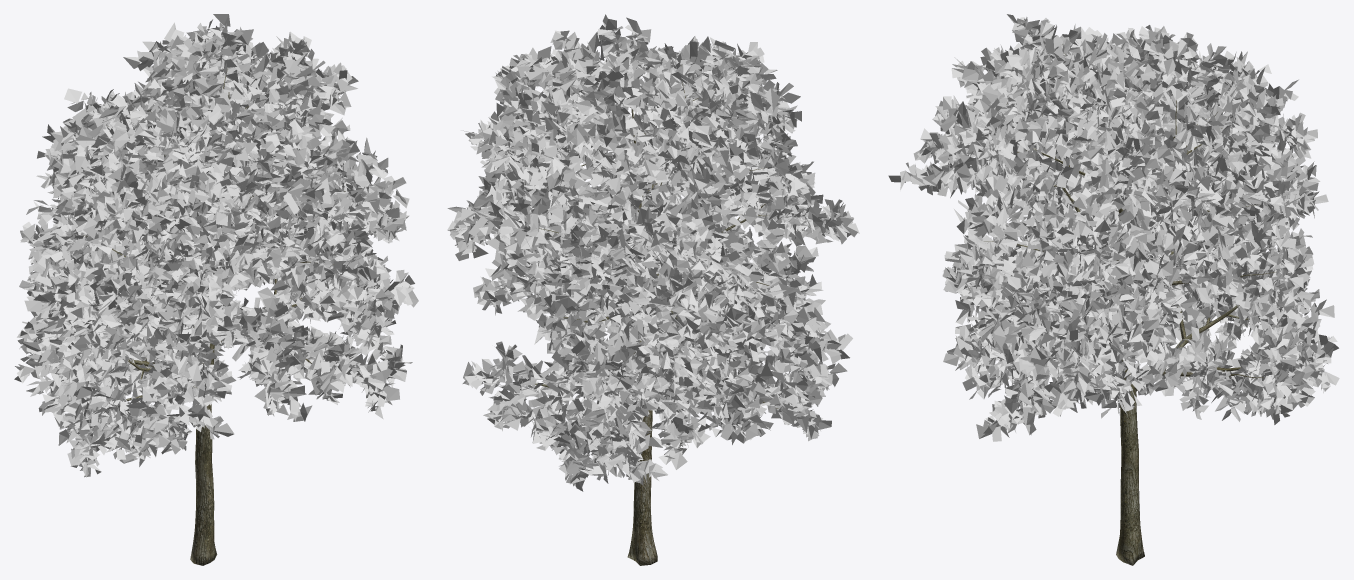
File: tree.glb
The picture shows the model from 3 angles, left to right: view 1: azimuth 30°, elevation 25°; view 2: azimuth 150°, elevation 25°; view 3: azimuth 270°, elevation 25°; orthographic projection. The views are drawn at different scales.
Visible parts, largest first — view 1: 45K; view 2: 45K; view 3: 45K.
Part boxes in pixels (x1=…): 45K: x1=14, y1=14, x2=418, y2=565; 45K: x1=447, y1=14, x2=859, y2=565; 45K: x1=888, y1=14, x2=1339, y2=565.
Size of what is drawn, in the model's own units: 5.54 by 7.24 by 5.49.
Materials: 2 (1 with a texture image).
